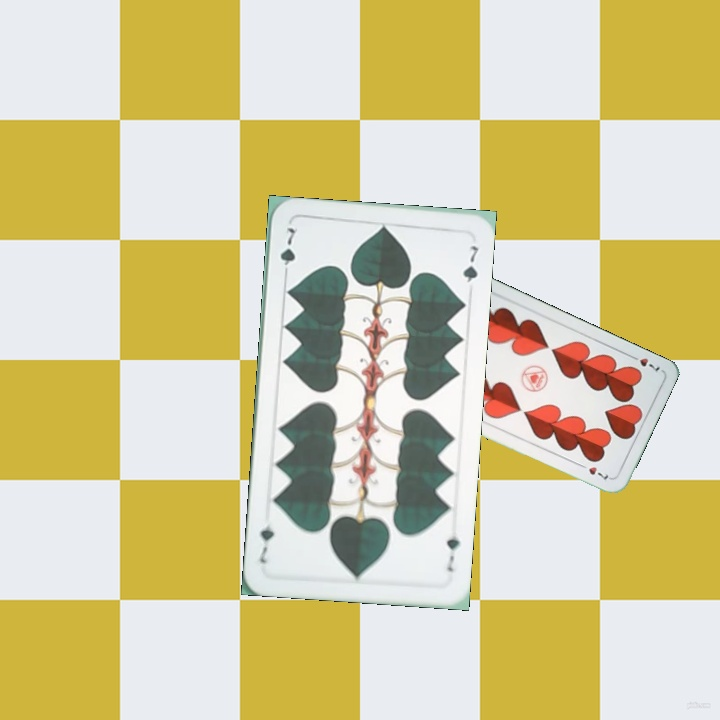G7: (276, 223, 300, 281), (443, 524, 462, 574)
H7: (625, 350, 663, 376)
